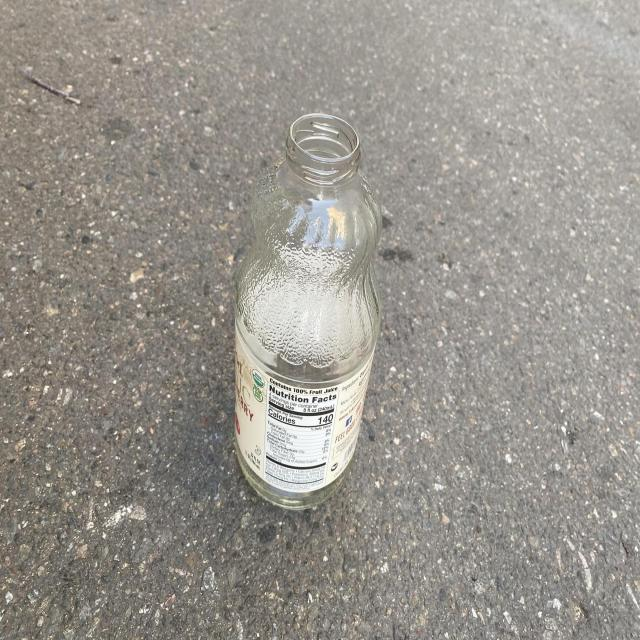glass: (235, 113, 381, 510)
